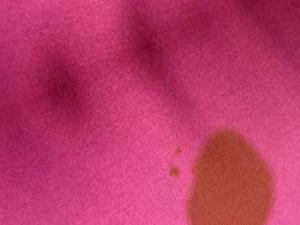stain: (186, 125, 279, 224), (167, 140, 186, 157), (167, 164, 182, 184)
